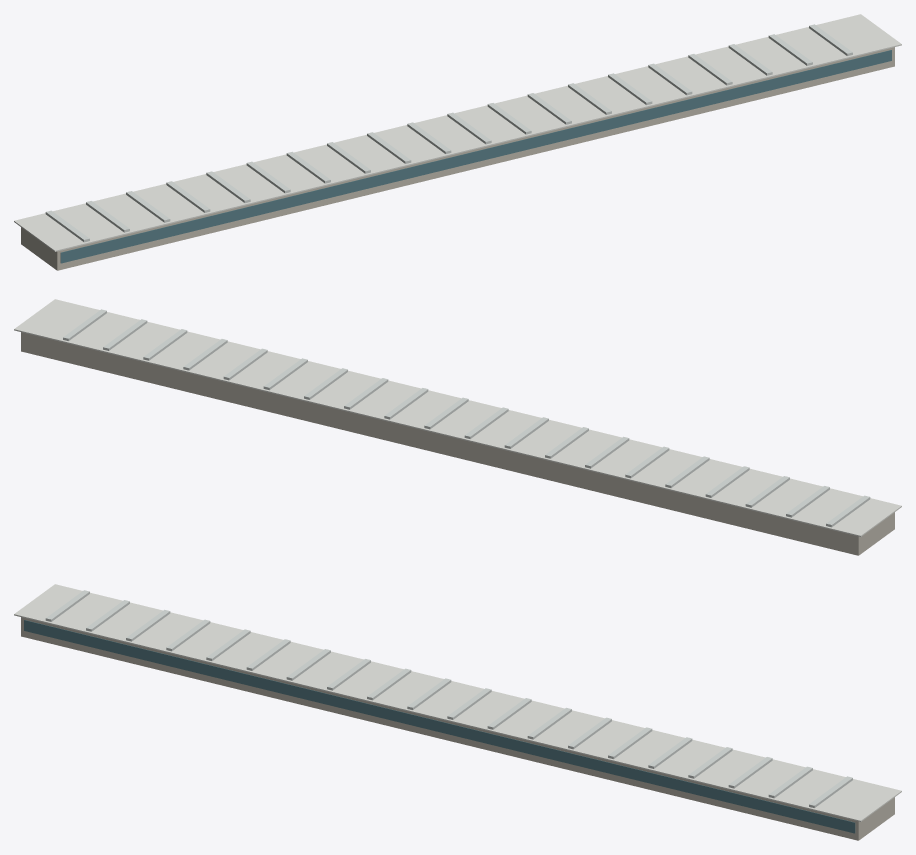
File: aus-terminal-context.glb
The picture shows the model from 3 angles, top to bottom: view 1: azimuth 30°, elevation 25°; view 2: azimuth 150°, elevation 25°; view 3: azimuth 330°, elevation 25°; orthographic projection.
Visible parts, largest first — view 1: 60 Existing terminal - massing__Light standing seam roof, 60 Existing terminal - massing__Blue gray glazing, 60 Existing terminal - massing__Warm silver cladding, 60 Existing terminal - massing__Pale structural metal; view 2: 60 Existing terminal - massing__Light standing seam roof, 60 Existing terminal - massing__Warm silver cladding, 60 Existing terminal - massing__Pale structural metal; view 3: 60 Existing terminal - massing__Light standing seam roof, 60 Existing terminal - massing__Blue gray glazing, 60 Existing terminal - massing__Warm silver cladding, 60 Existing terminal - massing__Pale structural metal.
Part boxes in pixels (x1=…): 60 Existing terminal - massing__Light standing seam roof: x1=14, y1=14, x2=901, y2=251; 60 Existing terminal - massing__Blue gray glazing: x1=60, y1=50, x2=891, y2=263; 60 Existing terminal - massing__Warm silver cladding: x1=21, y1=47, x2=894, y2=270; 60 Existing terminal - massing__Pale structural metal: x1=45, y1=24, x2=852, y2=242; 60 Existing terminal - massing__Light standing seam roof: x1=14, y1=299, x2=901, y2=536; 60 Existing terminal - massing__Warm silver cladding: x1=21, y1=332, x2=894, y2=555; 60 Existing terminal - massing__Pale structural metal: x1=63, y1=309, x2=870, y2=527; 60 Existing terminal - massing__Light standing seam roof: x1=14, y1=584, x2=901, y2=821; 60 Existing terminal - massing__Blue gray glazing: x1=24, y1=620, x2=855, y2=833; 60 Existing terminal - massing__Warm silver cladding: x1=21, y1=617, x2=894, y2=840; 60 Existing terminal - massing__Pale structural metal: x1=45, y1=590, x2=852, y2=807.
Size of the model in its own units: 738 by 21 by 62.
